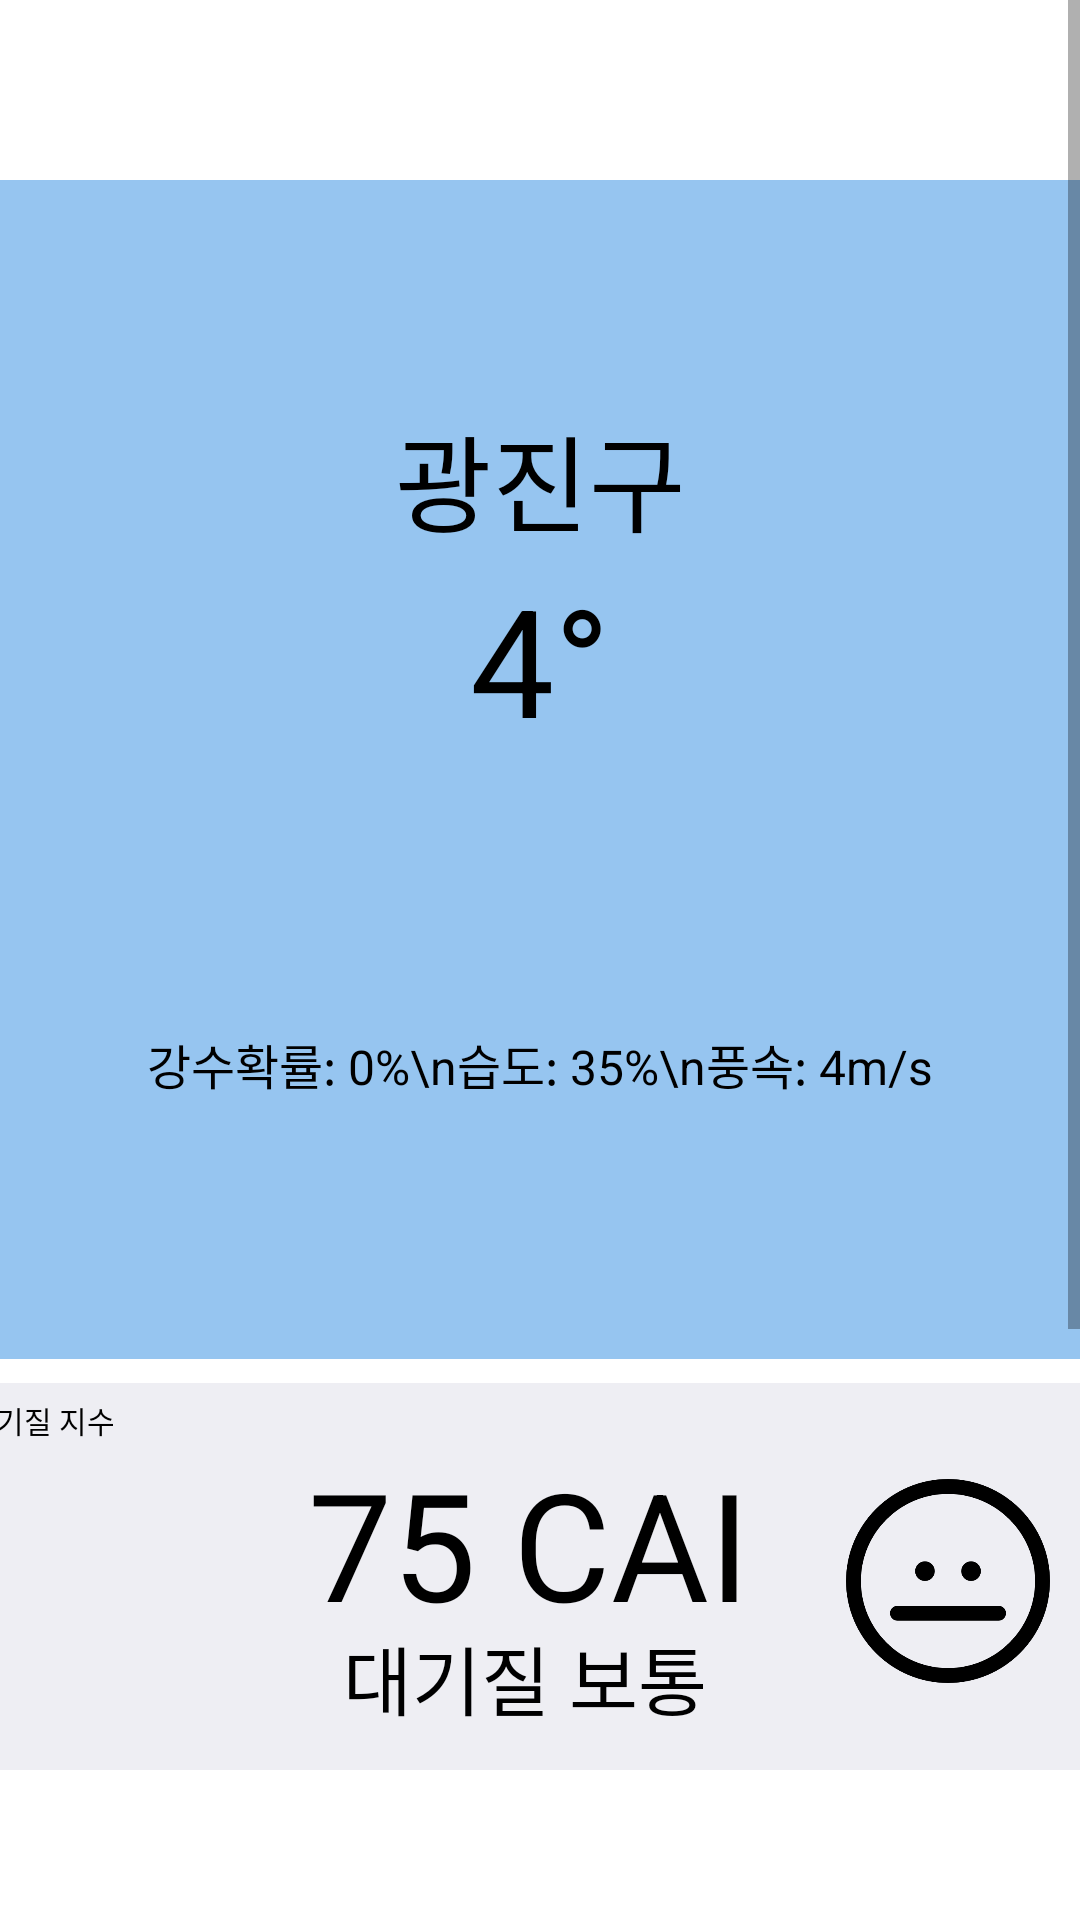

Named icons in this screenshot (1080px x 1920px) and their bounding boxes, (x1, y1, x2, y2):
soso: (846, 1479, 1050, 1683)
